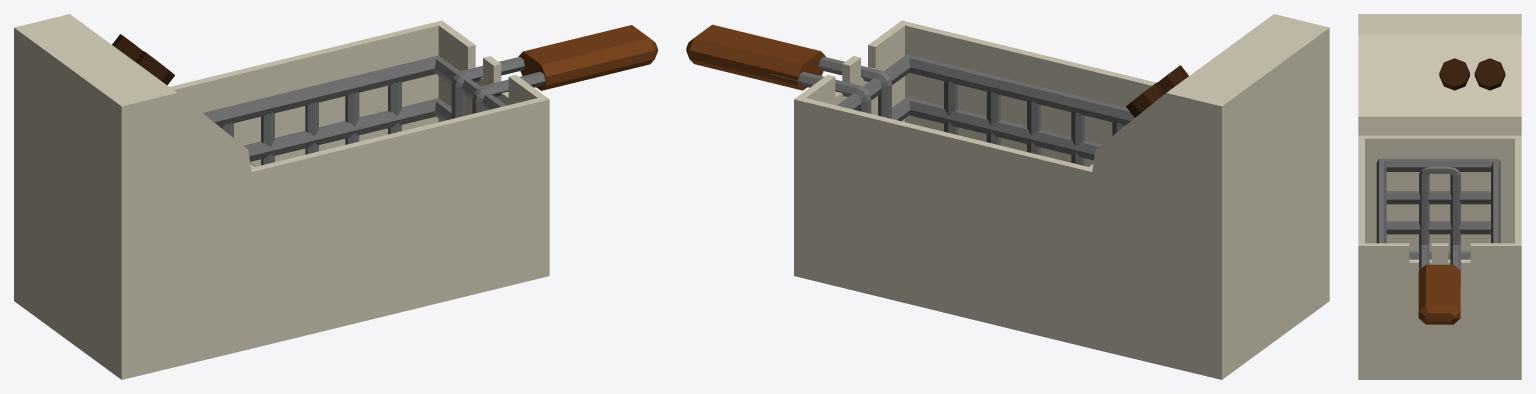
The model's file is fries.fbx.
3 views of the same model, side by side, from view 1: azimuth 30°, elevation 25°; view 2: azimuth 150°, elevation 25°; view 3: azimuth 270°, elevation 25° (orthographic). The views are drawn at different scales.
Parts seen in each view (by area): view 1: fryer, deepFryerNet, handle, knobLeft; view 2: fryer, deepFryerNet, handle, knobRight; view 3: fryer, deepFryerNet, handle, knobRight, knobLeft.
Boxes of the visible parts, x1,y1,x2,y2 form: fryer: [14, 14, 549, 379]; deepFryerNet: [203, 55, 545, 166]; handle: [518, 25, 657, 90]; knobLeft: [135, 51, 174, 85]; fryer: [794, 14, 1329, 379]; deepFryerNet: [770, 54, 1135, 166]; handle: [686, 24, 825, 90]; knobRight: [1126, 82, 1165, 117]; fryer: [1358, 14, 1521, 379]; deepFryerNet: [1376, 158, 1500, 284]; handle: [1418, 264, 1460, 324]; knobRight: [1474, 58, 1505, 90]; knobLeft: [1439, 58, 1469, 90].
Size of the model in its own units: 272 by 123 by 87.6.
